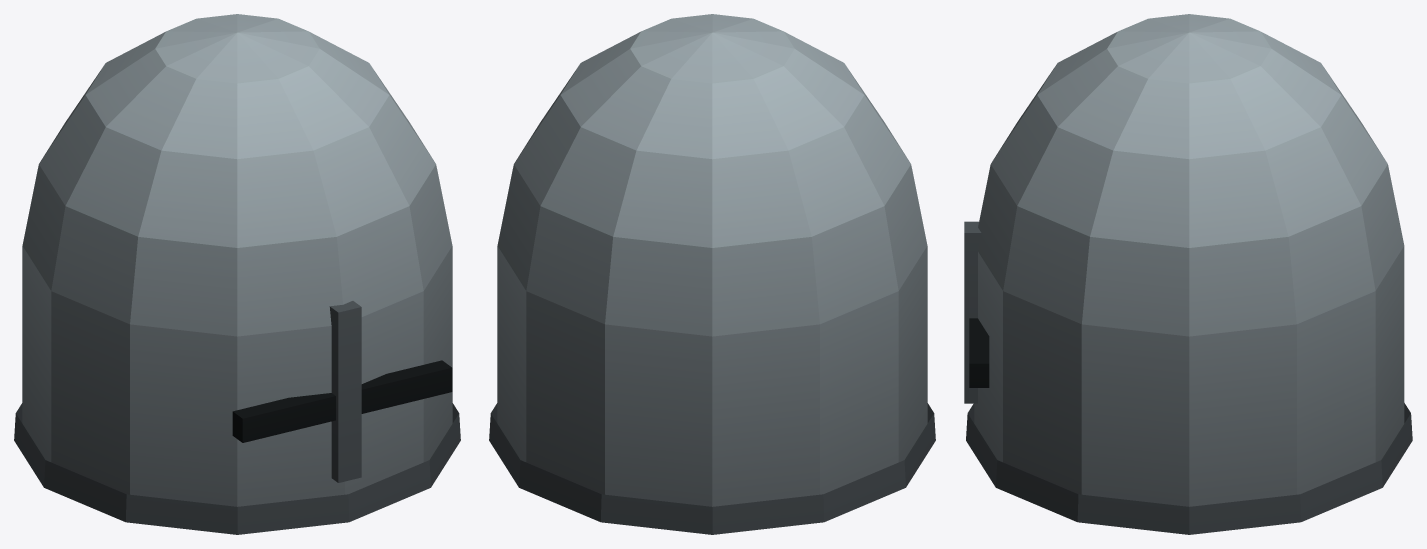
File: guard_helm_t1.glb
The picture shows the model from 3 angles, left to right: view 1: azimuth 30°, elevation 25°; view 2: azimuth 150°, elevation 25°; view 3: azimuth 270°, elevation 25°; orthographic projection.
Visible parts, largest first — view 1: guard_helm_t1__head; view 2: guard_helm_t1__head; view 3: guard_helm_t1__head.
Boxes of the visible parts, bbox=[...] form: guard_helm_t1__head: bbox=[14, 14, 460, 534]; guard_helm_t1__head: bbox=[489, 14, 935, 534]; guard_helm_t1__head: bbox=[964, 14, 1412, 534].
Bounding box in the file's own units: 1.33 × 1.34 × 1.33.
Materials: 1 (1 with a texture image).
